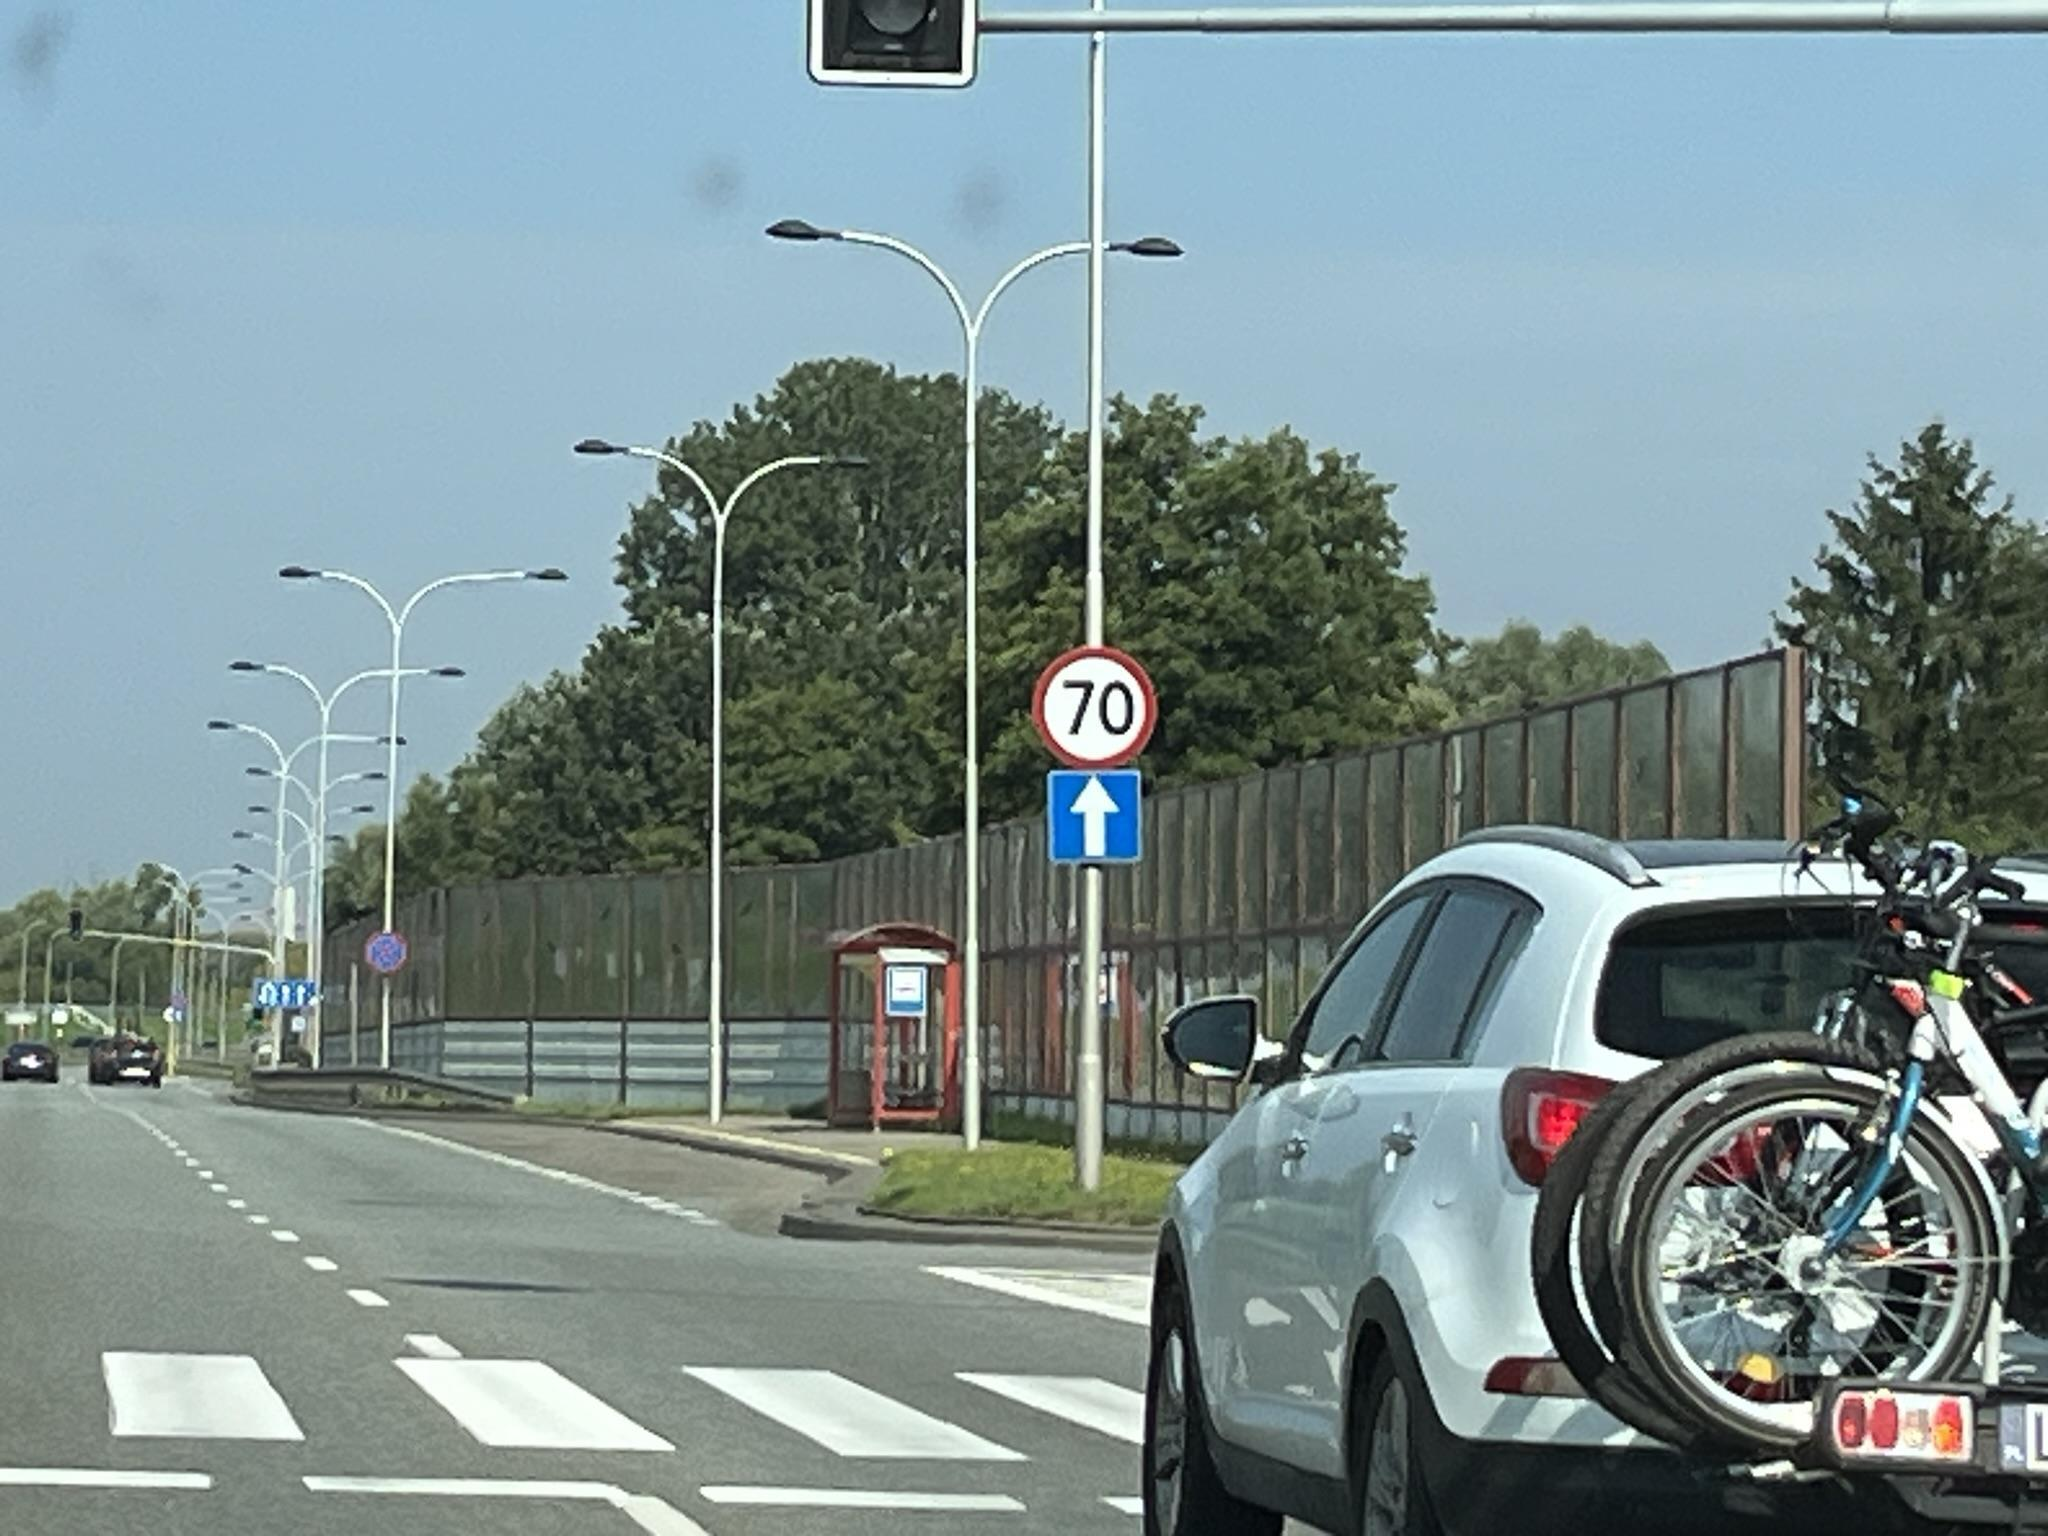information: (1043, 768, 1143, 870), (889, 968, 927, 1016)
other: (252, 978, 319, 1010)
prohibitory: (1030, 642, 1158, 773), (364, 929, 410, 975)
